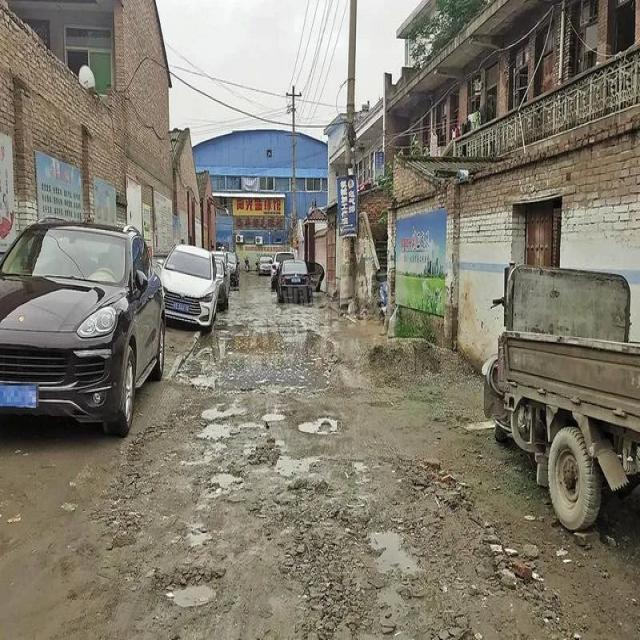Pothole: (365, 518, 436, 600), (165, 567, 231, 617), (262, 448, 328, 488), (195, 472, 261, 501), (196, 421, 245, 450), (196, 402, 251, 424), (301, 417, 351, 436), (264, 410, 290, 426)
